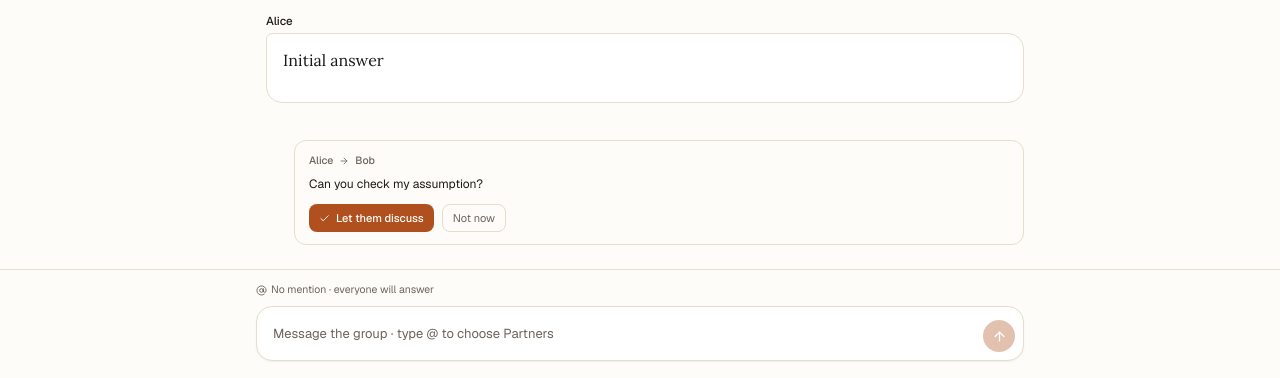
reuses native group approval controls inside chat: reject
Expected: the text "Can you check my assumption?" is shown, left=309, top=176, right=483, bottom=192
Click the button "Not now". click: [474, 218]
box: left=442, top=204, right=506, bottom=232
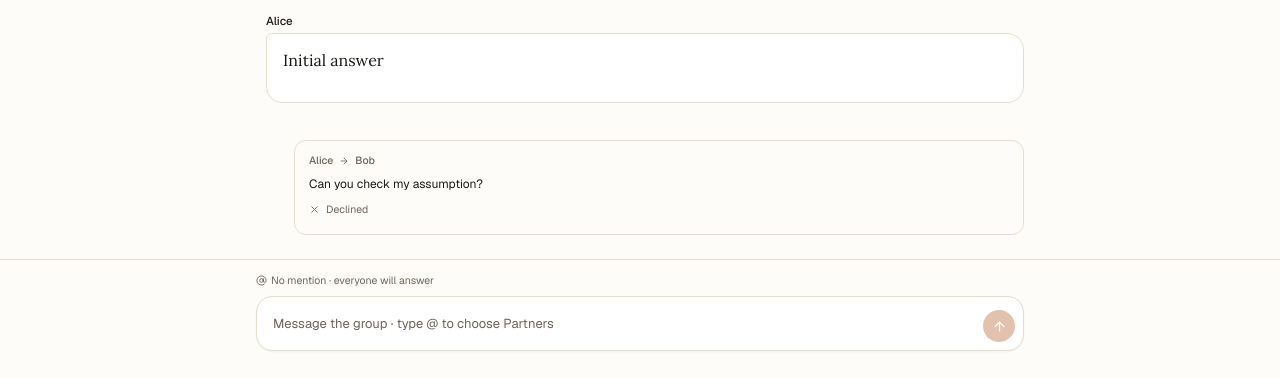
Now the text "Declined" is shown, box left=309, top=202, right=368, bottom=218
